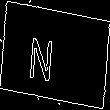N_N: (41, 27, 69, 83)
